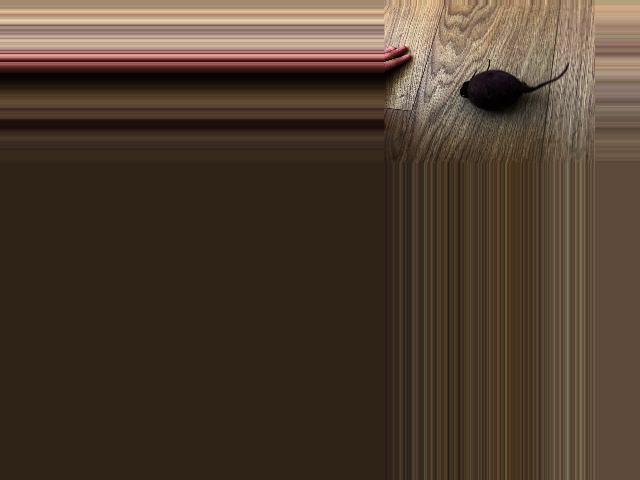beet: (461, 59, 569, 110)
